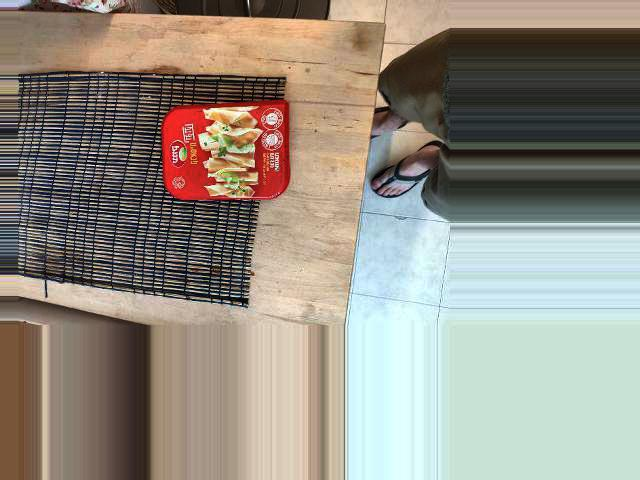cheese: (135, 135, 258, 329)
